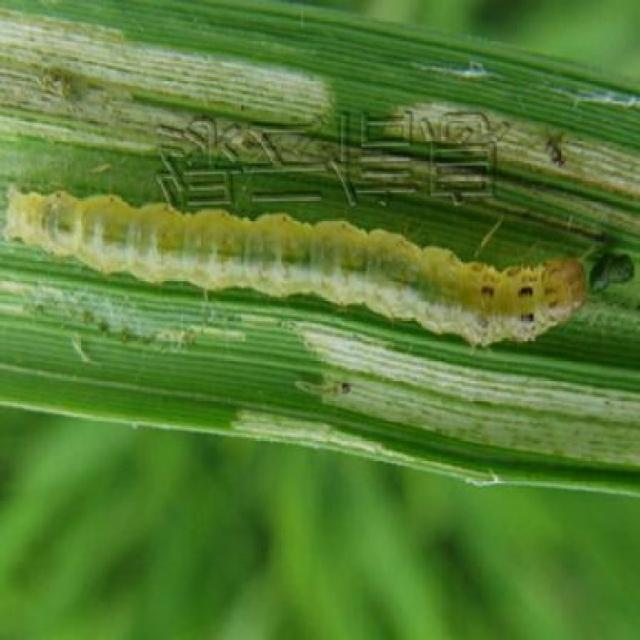leaf-folder: (8, 162, 624, 362), (288, 375, 368, 408)
